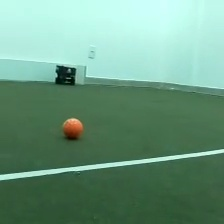ball: (59, 115, 85, 140)
goal: (1, 56, 88, 87)
robot: (54, 62, 77, 86)
